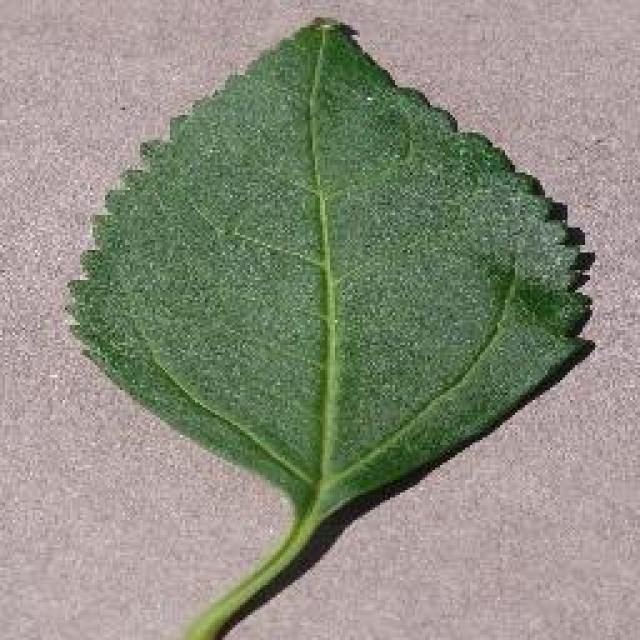Cherry___healthy: (50, 0, 608, 640)
